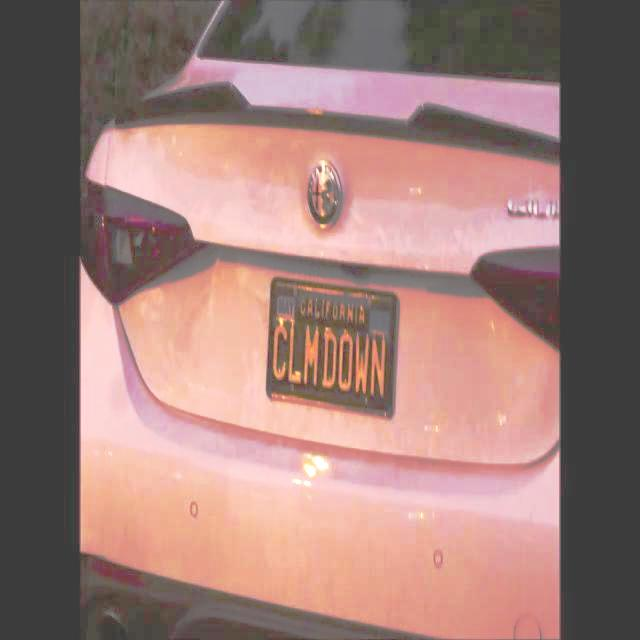license_plate: (265, 280, 401, 419)
